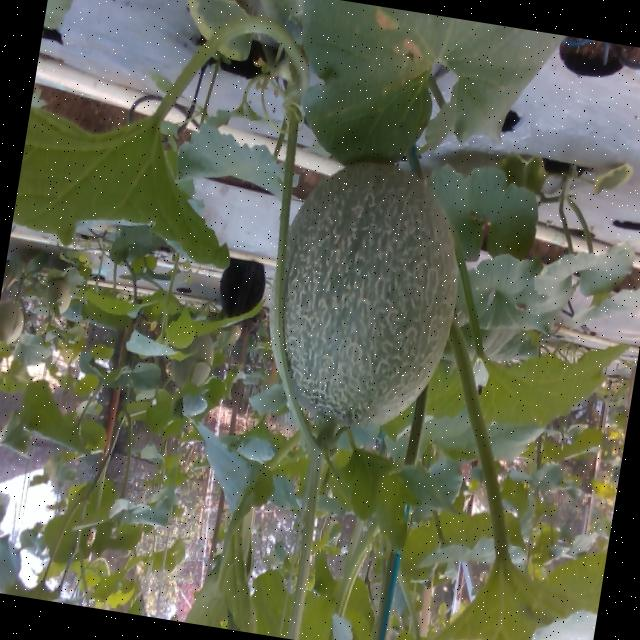melon: (282, 162, 456, 425)
